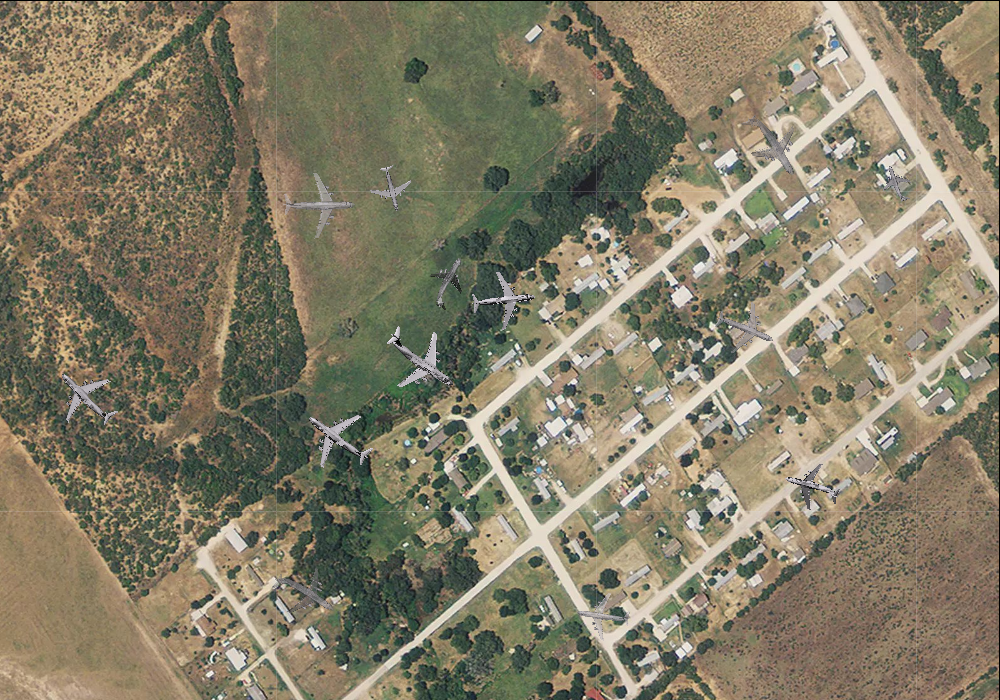plane: (367, 306, 475, 413), (289, 389, 387, 487), (39, 350, 133, 444), (725, 98, 816, 192), (260, 551, 347, 637), (706, 291, 783, 367), (282, 169, 355, 239), (415, 247, 482, 317), (468, 267, 538, 332), (778, 454, 846, 520), (573, 586, 634, 645), (365, 160, 417, 215), (875, 159, 920, 207)
